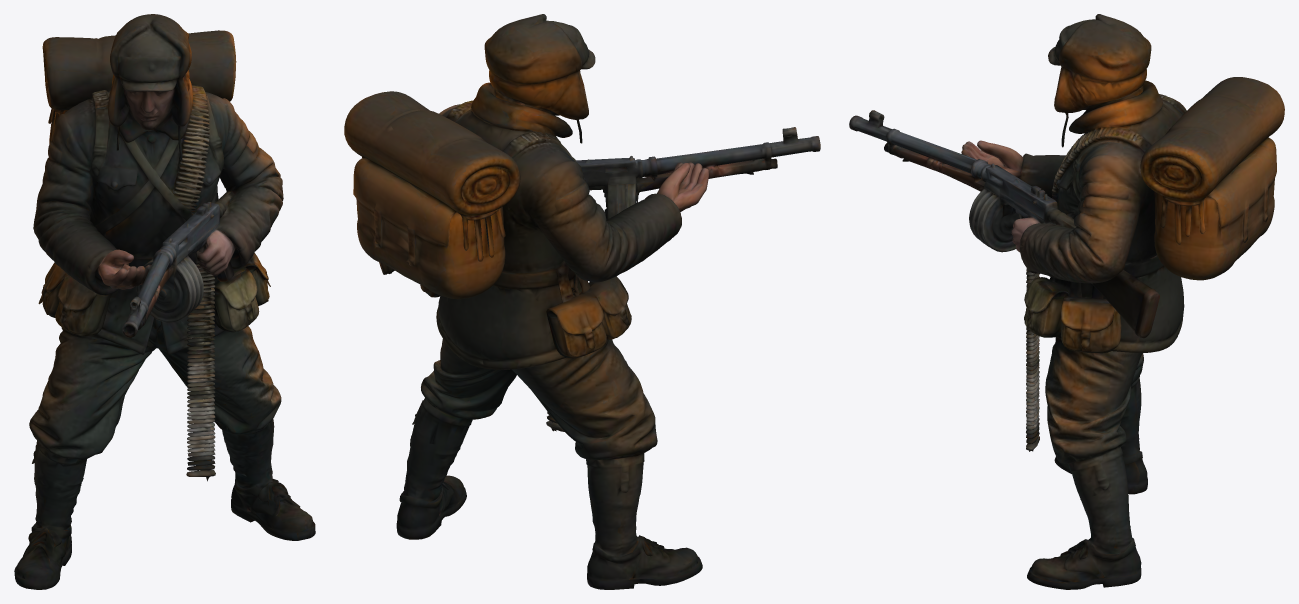
File: char_mg.glb
3 views of the same model, side by side, from view 1: azimuth 30°, elevation 25°; view 2: azimuth 150°, elevation 25°; view 3: azimuth 270°, elevation 25° (orthographic). The views are drawn at different scales.
Parts seen in each view (by area): view 1: node_0; view 2: node_0; view 3: node_0.
Part boxes in pixels (box(x1,y1,x2,y2)): node_0: box(14, 14, 315, 589); node_0: box(344, 14, 820, 589); node_0: box(849, 14, 1284, 589).
Size of the model in its own units: 0.617 by 1.05 by 0.8145.
Materials: 1 (1 with a texture image).
